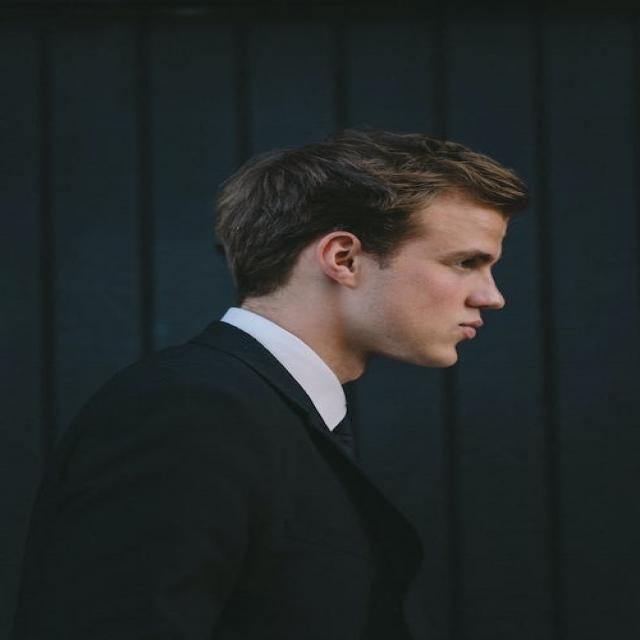Healthy: (242, 299, 362, 382)
